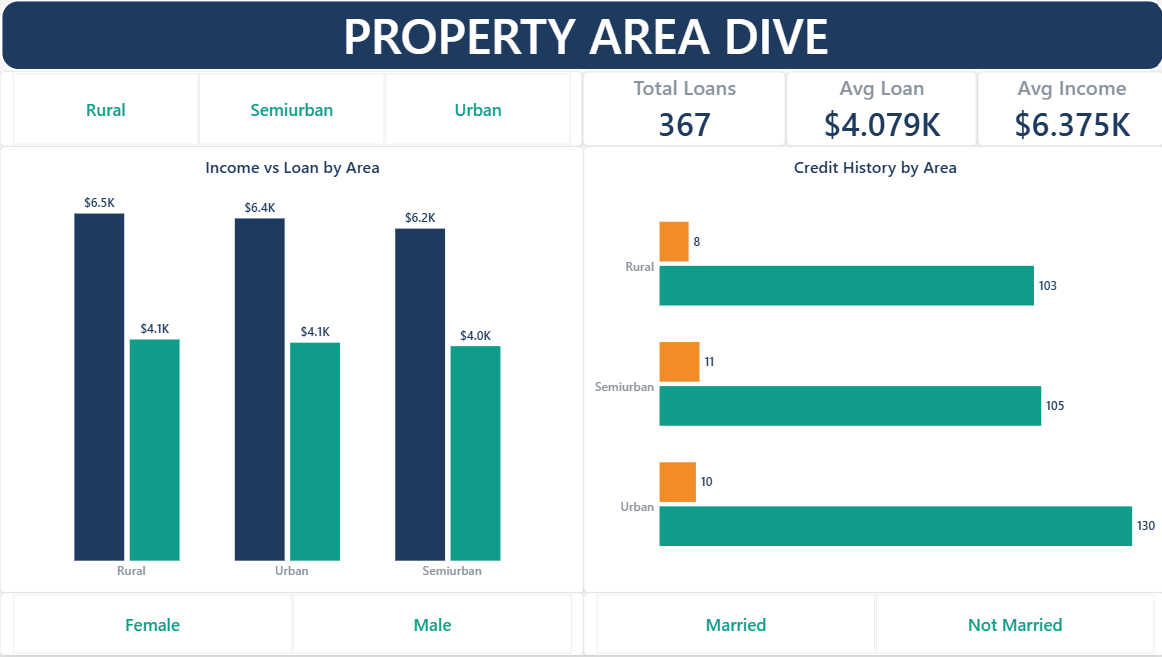

Layout of this report page (visuals, bound fields, positions):
{"tool":"powerbi","page":{"name":"Property Area Dive","canvas":[1920,1080],"ordinal":1},"visuals":[{"type":"textbox","title":"PROPERTY AREA DIVE","box":[0,0,1920.4,119.4],"z":0},{"type":"slicer","fields":{"Values":["Loan_Application_Analysis_367.Property_Area"]},"box":[0,119.4,959.2,123.5],"z":1000},{"type":"cardVisual","fields":{"Data":["Loan_Application_Analysis_367.Total Loans"]},"box":[959.2,119.4,335.5,123.5],"z":2000},{"type":"cardVisual","fields":{"Data":["Loan_Application_Analysis_367.Avg Loan"]},"box":[1294.7,119.4,314.9,123.5],"z":3000},{"type":"cardVisual","fields":{"Data":["Loan_Application_Analysis_367.Avg Income"]},"box":[1609.6,119.4,310.8,123.5],"z":4000},{"type":"clusteredColumnChart","title":"Income vs Loan by Area","fields":{"Category":["Loan_Application_Analysis_367.Property_Area"],"Y":["Loan_Application_Analysis_367.Avg Income","Loan_Application_Analysis_367.Avg Loan"]},"box":[0,242.9,961.2,734.8],"z":5000},{"type":"clusteredBarChart","title":"Credit History by Area","fields":{"Category":["Loan_Application_Analysis_367.Property_Area"],"Series":["Loan_Application_Analysis_367.Credit_History"],"Y":["Loan_Application_Analysis_367.Total Loans"]},"box":[961.2,242.9,959.2,734.8],"z":6000},{"type":"slicer","fields":{"Values":["Loan_Application_Analysis_367.Gender"]},"box":[0,977.7,961.2,102.9],"z":7000},{"type":"slicer","title":"MARRIED","fields":{"Values":["Loan_Application_Analysis_367.Marital Status"]},"box":[961.2,977.7,959.2,102.9],"z":8000}]}

Visuals, with their boxes in screenshot pixels (x1, y1, x2, y2), scaled from the page's 1920x1080 canvas onto the 1162x657 screenshot:
"PROPERTY AREA DIVE" textbox: rect(0, 0, 1161, 73)
slicer - Loan_Application_Analysis_367.Property_Area: rect(0, 73, 581, 148)
cardVisual - Loan_Application_Analysis_367.Total Loans: rect(581, 73, 784, 148)
cardVisual - Loan_Application_Analysis_367.Avg Loan: rect(784, 73, 974, 148)
cardVisual - Loan_Application_Analysis_367.Avg Income: rect(974, 73, 1161, 148)
"Income vs Loan by Area" clusteredColumnChart: rect(0, 148, 582, 595)
"Credit History by Area" clusteredBarChart: rect(582, 148, 1161, 595)
slicer - Loan_Application_Analysis_367.Gender: rect(0, 595, 582, 656)
"MARRIED" slicer: rect(582, 595, 1161, 656)
